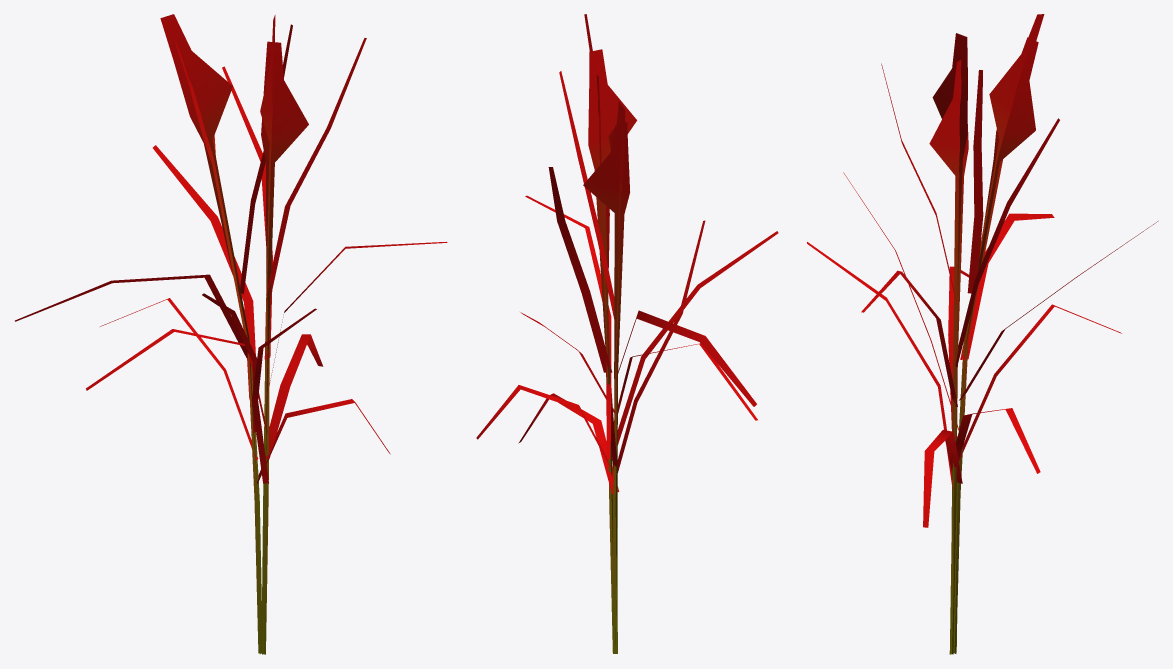
File: vegetation_8.fbx
The picture shows the model from 3 angles, left to right: view 1: azimuth 30°, elevation 25°; view 2: azimuth 150°, elevation 25°; view 3: azimuth 270°, elevation 25°; orthographic projection. The views are drawn at different scales.
Visible parts, largest first — view 1: _qlz0_Var14_; view 2: _qlz0_Var14_; view 3: _qlz0_Var14_.
Part boxes in pixels (left/top/right/bottom): _qlz0_Var14_: left=15, top=14, right=447, bottom=654; _qlz0_Var14_: left=476, top=14, right=778, bottom=653; _qlz0_Var14_: left=807, top=14, right=1158, bottom=654.
Size of the model in its own units: 17.02 by 30.35 by 15.45.
